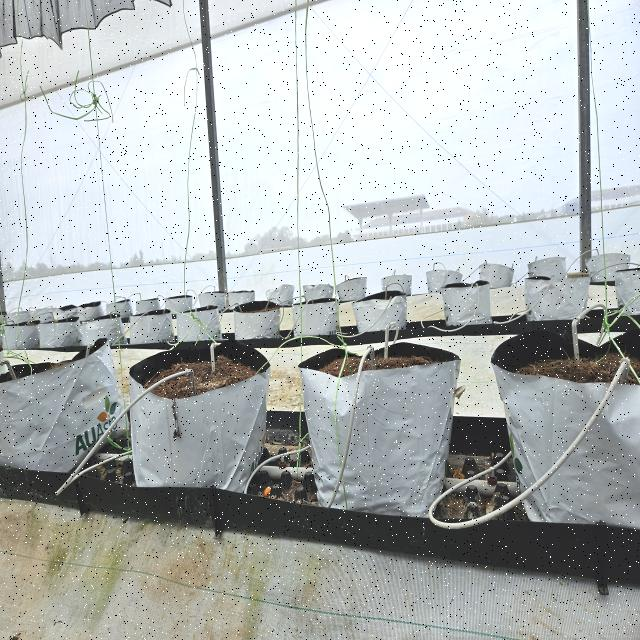Soilbag: (299, 347, 461, 520), (494, 364, 640, 532), (124, 340, 270, 496), (0, 345, 118, 477)
